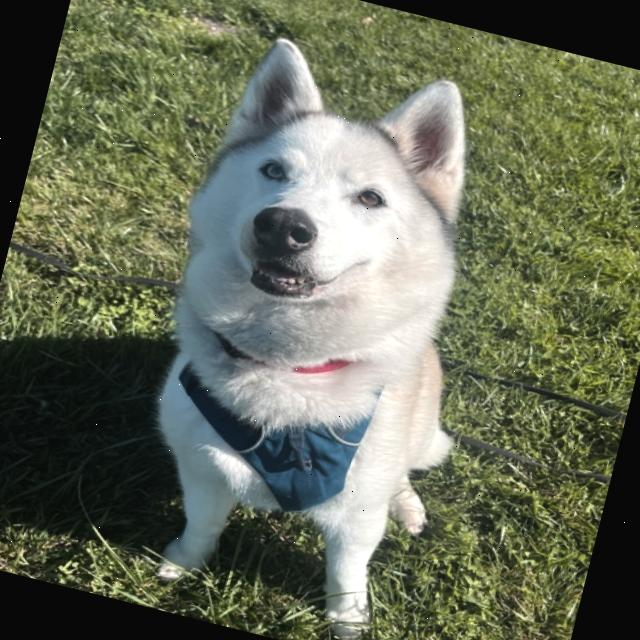siberian_husky_dog: (143, 16, 518, 414)
